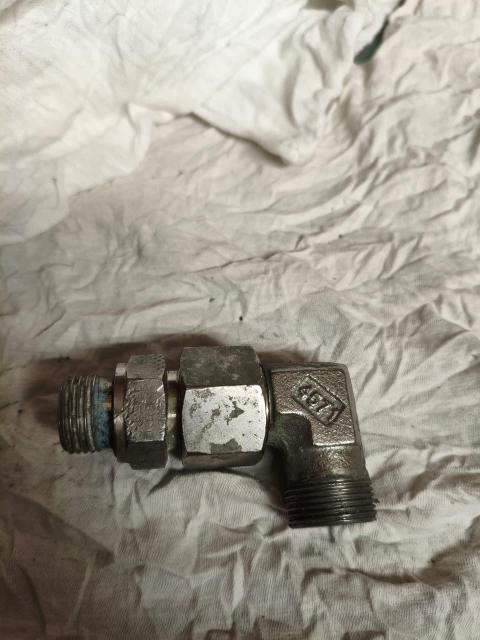Metal: (57, 353, 378, 527)
